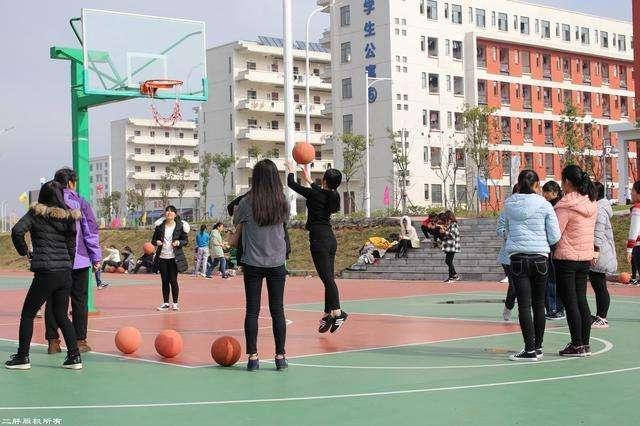ball: (211, 336, 242, 367), (155, 329, 183, 358), (115, 326, 144, 353), (290, 141, 317, 169), (142, 242, 154, 255)
human: (5, 180, 83, 369), (234, 157, 292, 373), (501, 168, 561, 362), (288, 164, 349, 333), (53, 167, 103, 354), (552, 164, 598, 357), (151, 205, 188, 312)
rim: (144, 76, 186, 130)
